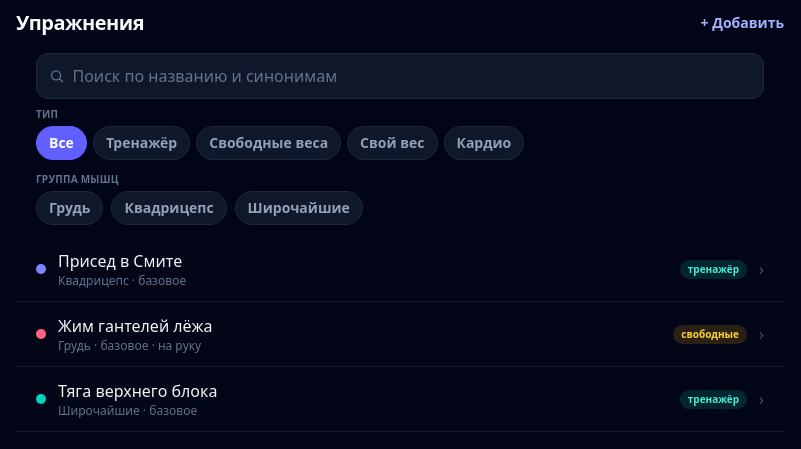
Test: ExercisesPage › фильтрует по типу: тренажёр
expect the text "Присед в Смите" is shown: met, box [58, 250, 182, 272]
Click the button "Тренажёр".
click(142, 143)  # box [93, 126, 190, 160]
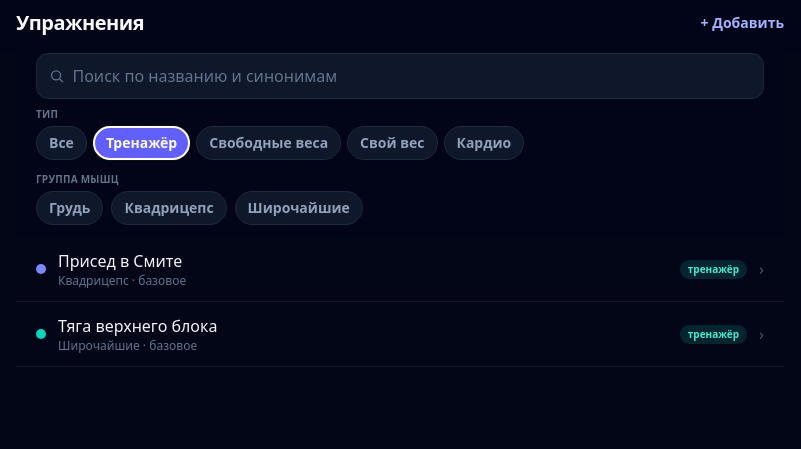
expect the text "Присед в Смите" is shown: met, box [58, 250, 182, 272]
expect the link "Жим гантелей лёжа" is gone: met
